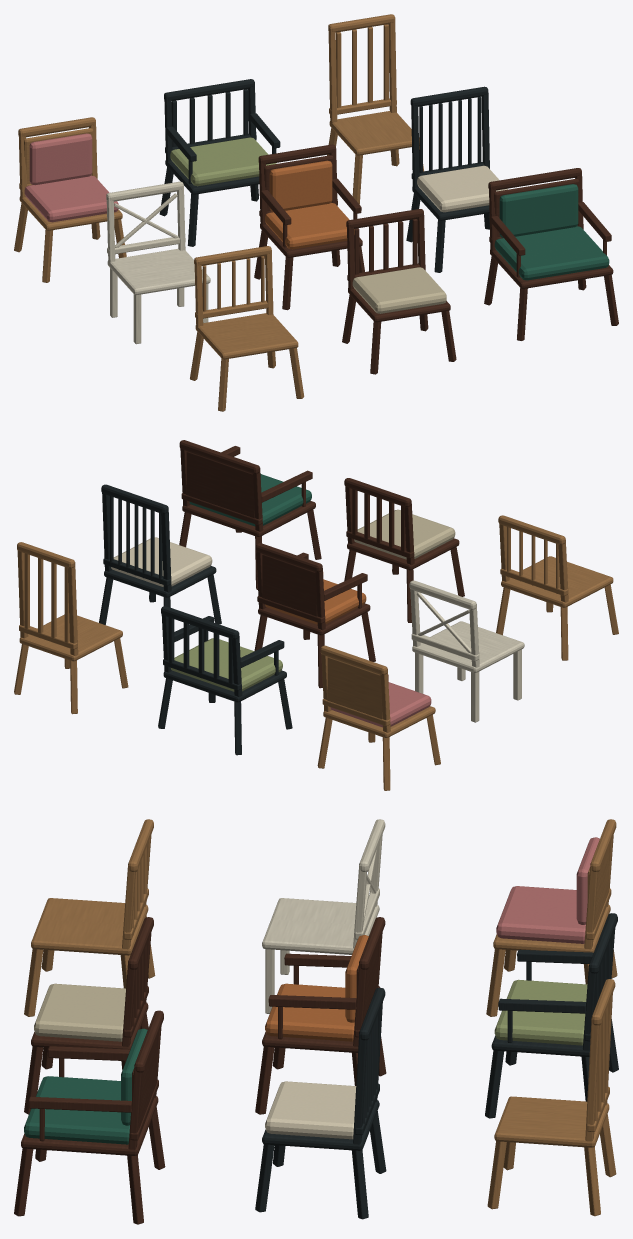
3 views of the same model, one above another, from view 1: azimuth 30°, elevation 25°; view 2: azimuth 150°, elevation 25°; view 3: azimuth 270°, elevation 25° (orthographic). The views are drawn at different scales.
Visible parts, largest first — view 1: runtime_Oak spindle/Leg-000; view 2: runtime_Oak spindle/Leg-000; view 3: runtime_Oak spindle/Leg-000.
Part boxes in pixels (box(x1,y1,x2,y2)): runtime_Oak spindle/Leg-000: box(14, 14, 618, 411); runtime_Oak spindle/Leg-000: box(14, 440, 618, 790); runtime_Oak spindle/Leg-000: box(14, 819, 618, 1224).
Size of the model in its own units: 3.28 by 1.17 by 3.25.
10 materials, 10 textured.
